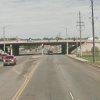Bridge: (2, 32, 92, 54)
